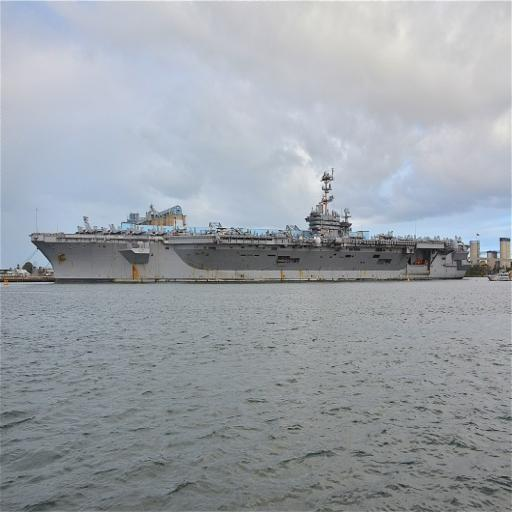Portanaves: (29, 162, 478, 289)
